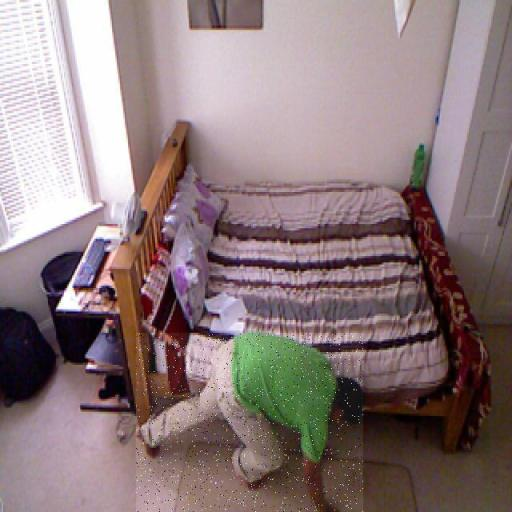Fall: (136, 333, 363, 512)
